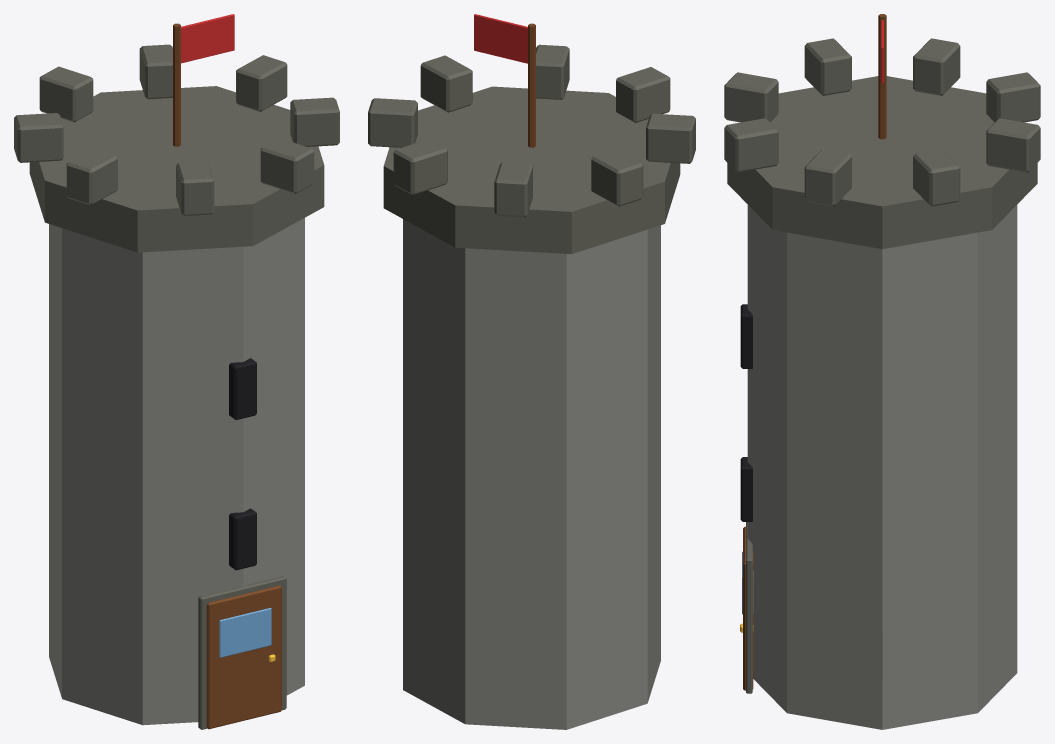
Rendered from CastleTower.fbx.
The picture shows the model from 3 angles, left to right: view 1: azimuth 30°, elevation 25°; view 2: azimuth 150°, elevation 25°; view 3: azimuth 270°, elevation 25°; orthographic projection.
Parts seen in each view (by area): view 1: CastleTower; view 2: CastleTower; view 3: CastleTower.
Part boxes in pixels (x1,y1,x2,y2): CastleTower: [14, 14, 339, 729]; CastleTower: [368, 14, 695, 729]; CastleTower: [724, 14, 1040, 729].
Bounding box in the file's own units: 9.38 × 21.5 × 9.38.
1 material, 1 textured.
